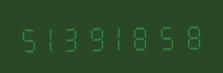eight: (132, 19, 154, 52), (178, 18, 200, 51)
five: (17, 21, 39, 54), (155, 19, 177, 51)
nine: (86, 20, 108, 53)
one: (40, 21, 62, 53), (109, 20, 131, 52)
three: (63, 20, 85, 53)
